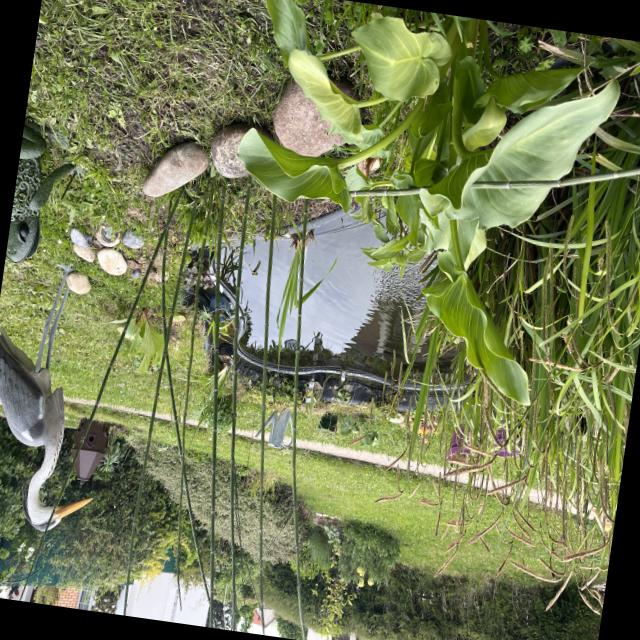Heron: (0, 249, 129, 546)
